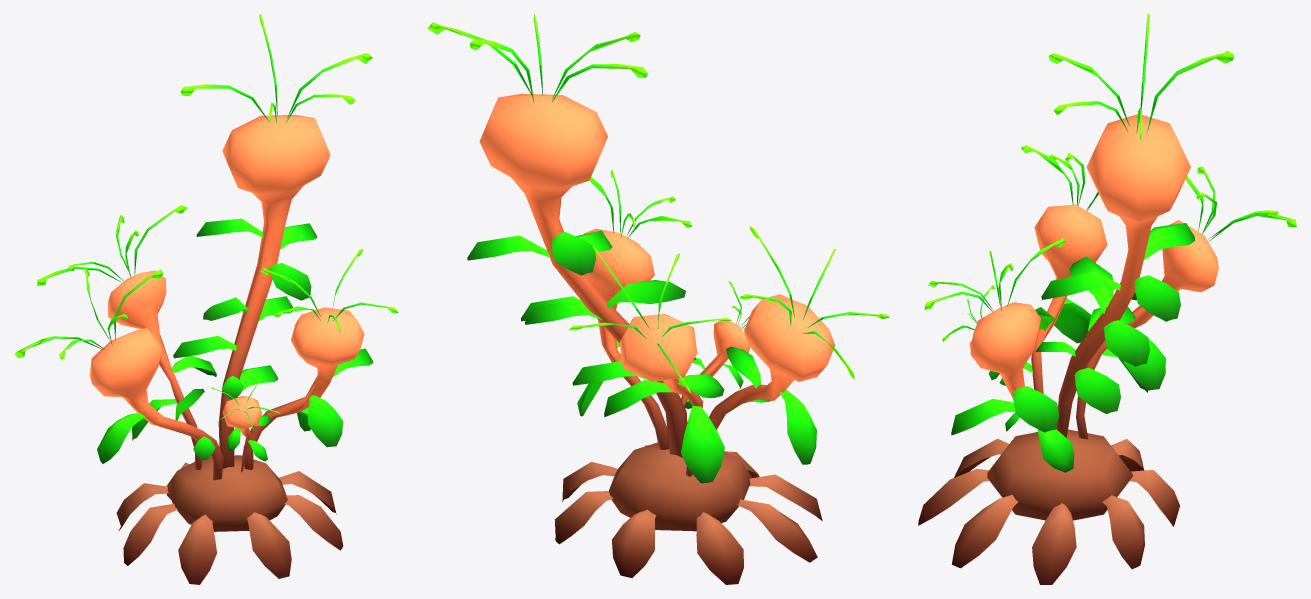
The model's file is sprouted_anemone.glb.
The picture shows the model from 3 angles, left to right: view 1: azimuth 30°, elevation 25°; view 2: azimuth 150°, elevation 25°; view 3: azimuth 270°, elevation 25°; orthographic projection. The views are drawn at different scales.
Visible parts, largest first — view 1: Sprouted Anemone; view 2: Sprouted Anemone; view 3: Sprouted Anemone.
Boxes of the visible parts, <box> form: Sprouted Anemone: <box>14,14,398,584</box>; Sprouted Anemone: <box>427,14,889,584</box>; Sprouted Anemone: <box>918,14,1296,584</box>.
Size of the model in its own units: 1.35 by 1.6 by 1.02.
1 material, 1 textured.
